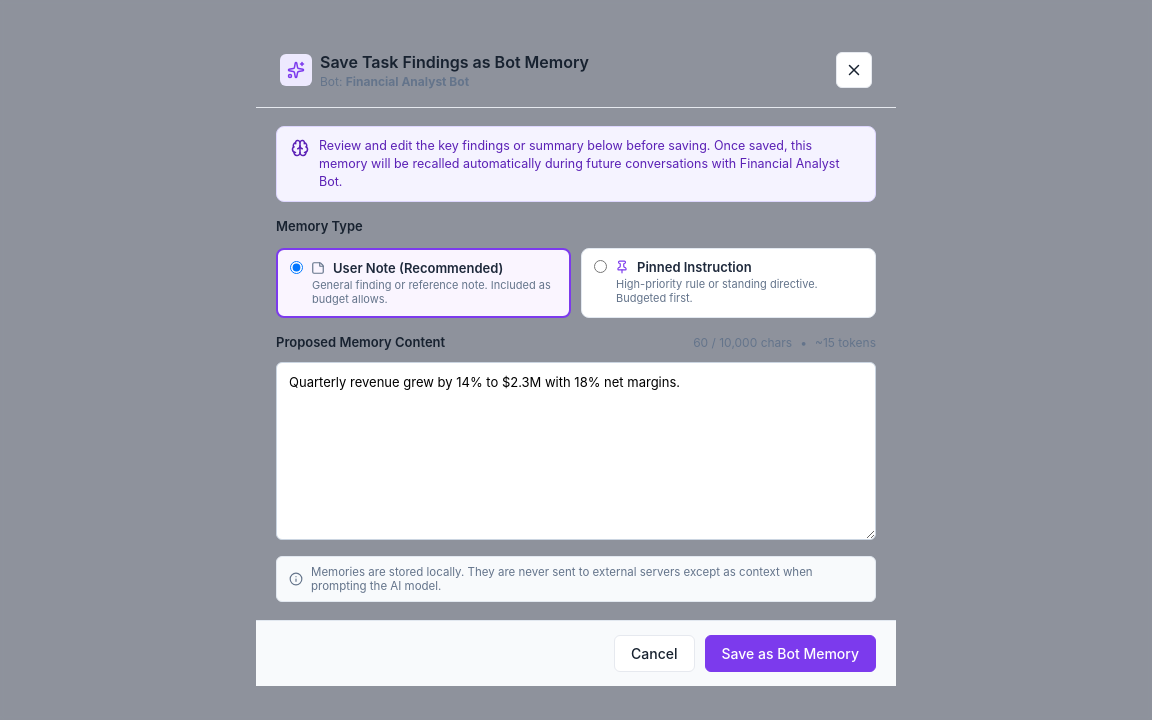
Renderer: TaskSummaryMemoryProposalModal (Phase 9 Step 9.3 Task Summary Workflow) › 9. prevents duplicate submissions while saving is in progress
Later steps or results of the test are not shown.
What coordinates should you click on to do the following:
click the button with test id "btn-save-task-summary"
I would click on:
 (790, 654)
Its box is [704,635,876,672].
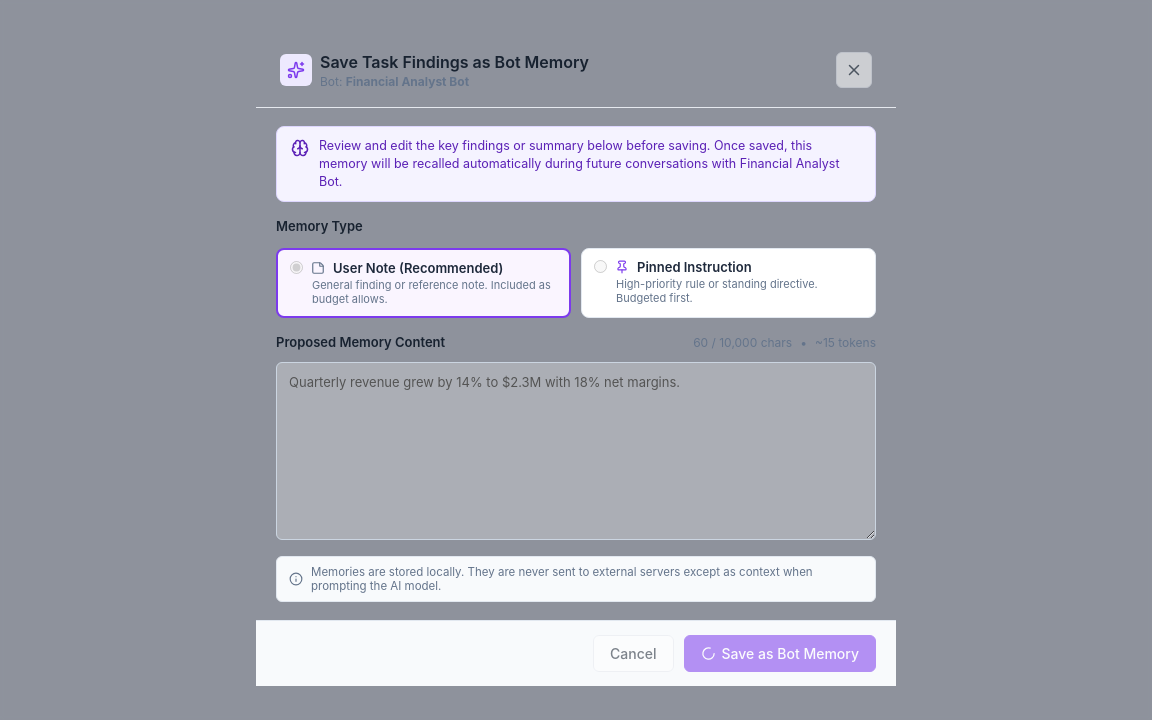
Expected: the button with test id "btn-save-task-summary" is disabled, [684,635,876,672]
